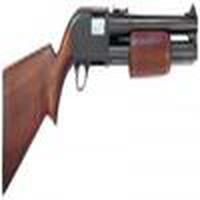gun: (3, 10, 200, 158)
